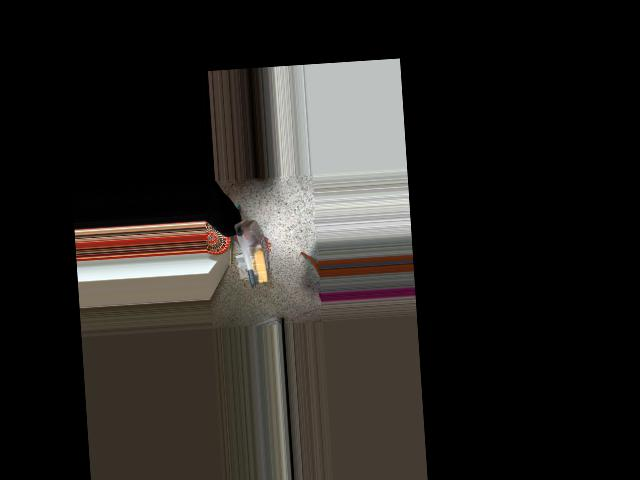cheese: (231, 216, 271, 287)
